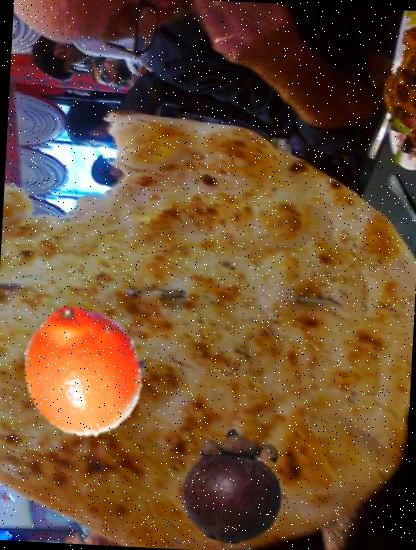Mangostan: (175, 428, 294, 546)
Tangelo: (14, 299, 156, 441)
